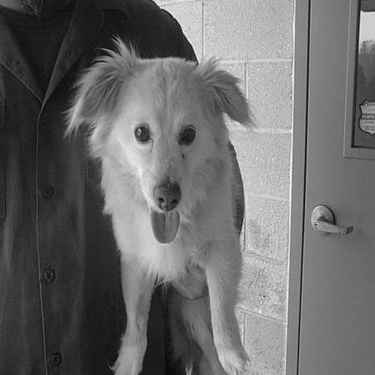dog: (52, 23, 261, 374)
